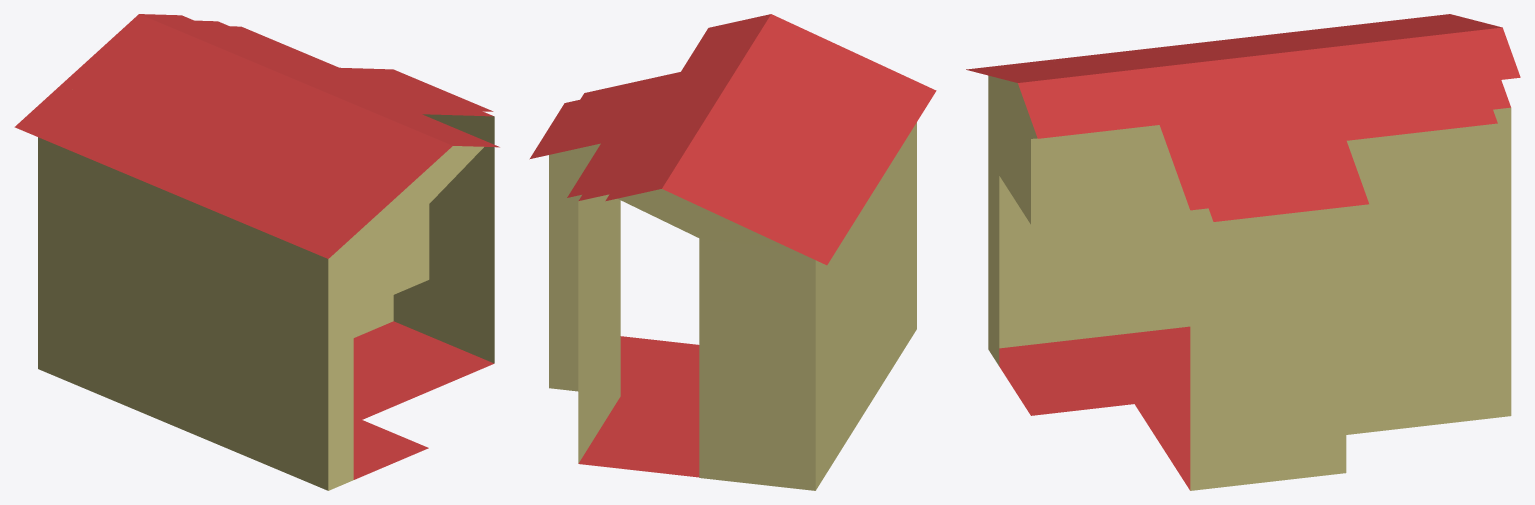
The picture shows the model from 3 angles, left to right: view 1: azimuth 30°, elevation 25°; view 2: azimuth 150°, elevation 25°; view 3: azimuth 270°, elevation 25°; orthographic projection. The views are drawn at different scales.
Bounding box in the file's own units: 13.01 × 14.68 × 9.99.
